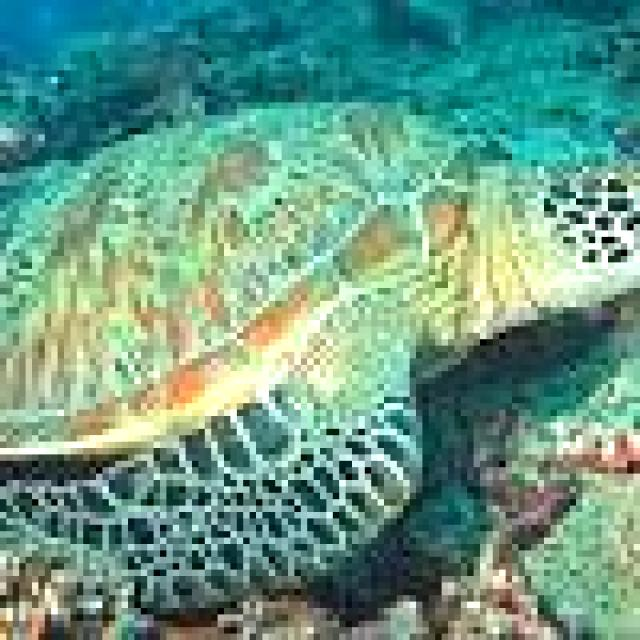Sea turtle: (0, 92, 640, 581)
